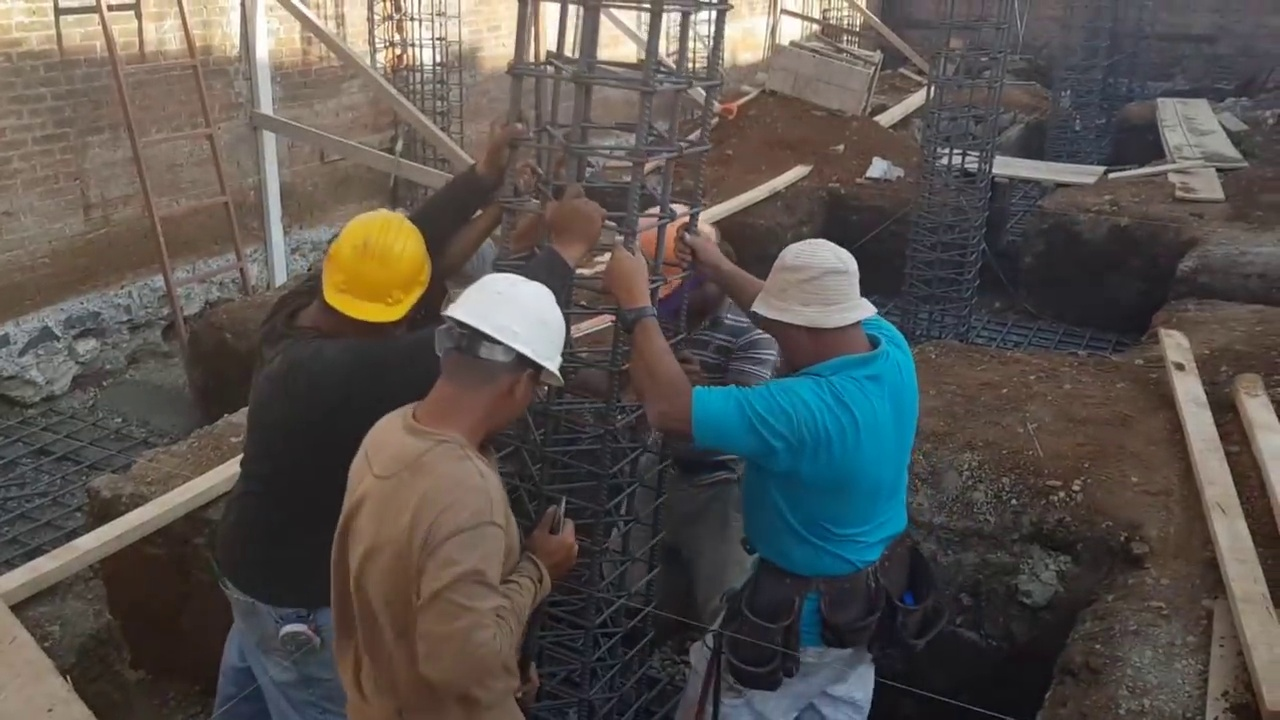helmet: (434, 272, 570, 391), (314, 208, 432, 326), (637, 219, 717, 300)
helmet-off: (746, 244, 877, 373)
helmet-on: (404, 267, 573, 459), (284, 214, 431, 351), (639, 213, 739, 330)
person: (205, 106, 532, 717), (607, 228, 924, 717), (332, 264, 573, 718), (612, 210, 780, 659)
